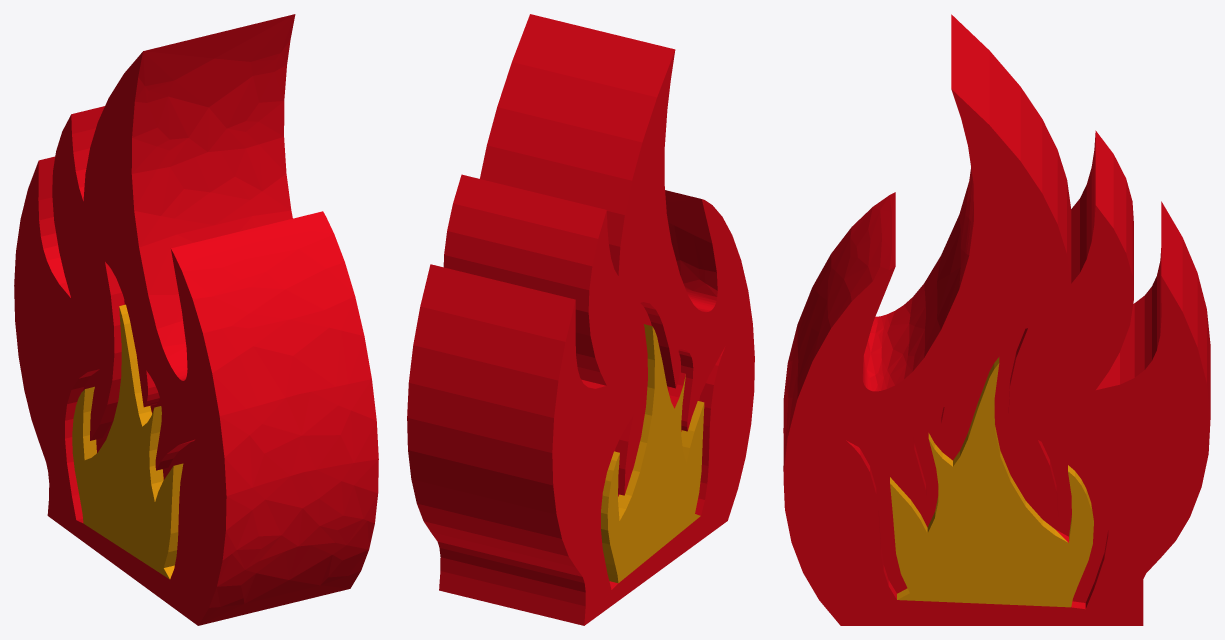
The model's file is FireToken.fbx.
3 views of the same model, side by side, from view 1: azimuth 30°, elevation 25°; view 2: azimuth 150°, elevation 25°; view 3: azimuth 270°, elevation 25° (orthographic). The views are drawn at different scales.
Parts seen in each view (by area): view 1: Meeple_flamme; view 2: Meeple_flamme; view 3: Meeple_flamme.
Boxes of the visible parts, <box> form: Meeple_flamme: <box>14,14,378,625</box>; Meeple_flamme: <box>407,14,754,625</box>; Meeple_flamme: <box>783,14,1210,625</box>.
Size of the model in its own units: 1200 by 4025 by 2900.
